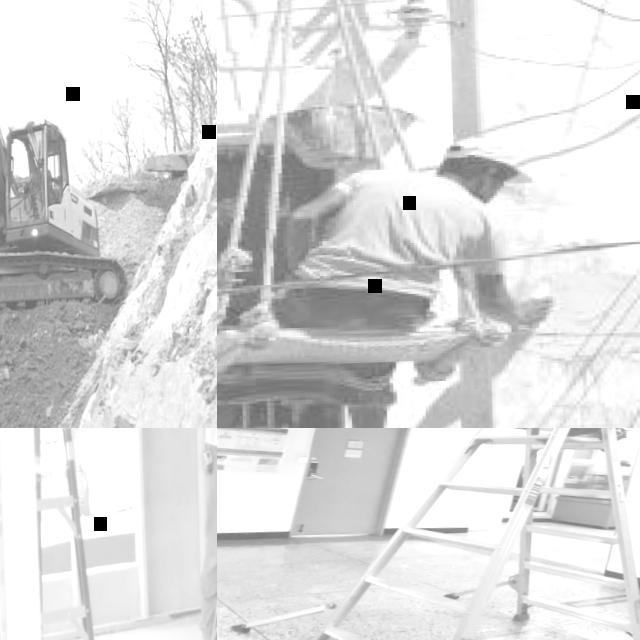Hardhat: (434, 131, 524, 177)
NO-Mask: (471, 175, 501, 203)
NO-Safety Vest: (287, 168, 463, 300)
Person: (217, 129, 546, 428), (34, 158, 53, 192)
machinery: (0, 0, 133, 345)
